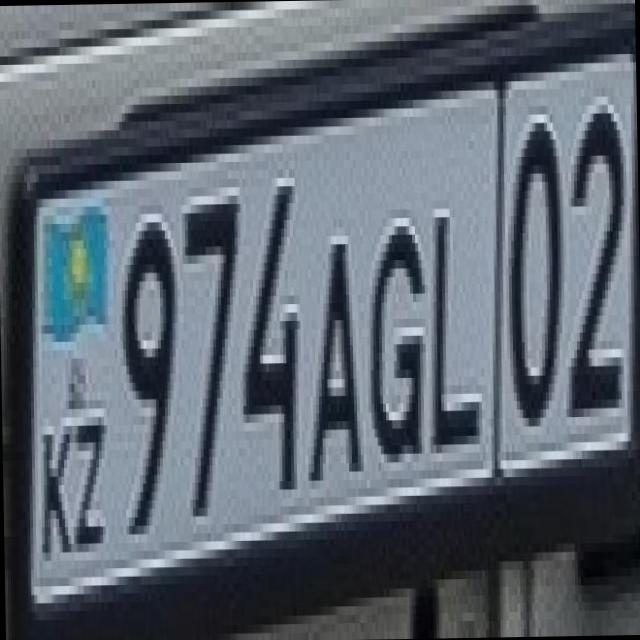0: (500, 105, 566, 418)
2: (558, 88, 624, 418)
4: (226, 160, 308, 490)
7: (172, 169, 248, 516)
9: (102, 196, 184, 534)
A: (298, 218, 366, 472)
G: (359, 209, 427, 462)
K: (25, 408, 74, 552)
L: (420, 191, 488, 436)
